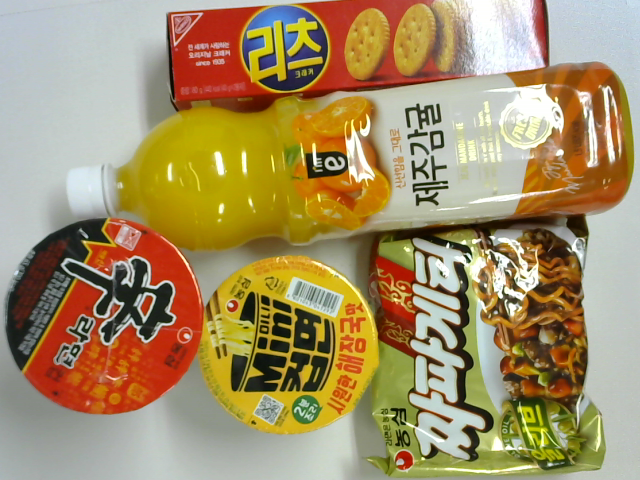Hejangmini: (199, 256, 385, 442)
Jeju_Tangerine_1.5L: (55, 68, 635, 248)
Olive_Chapaghetti: (373, 218, 613, 480)
Ritz_Cracker: (161, 4, 551, 94)
Sinramen_small: (5, 216, 199, 418)
